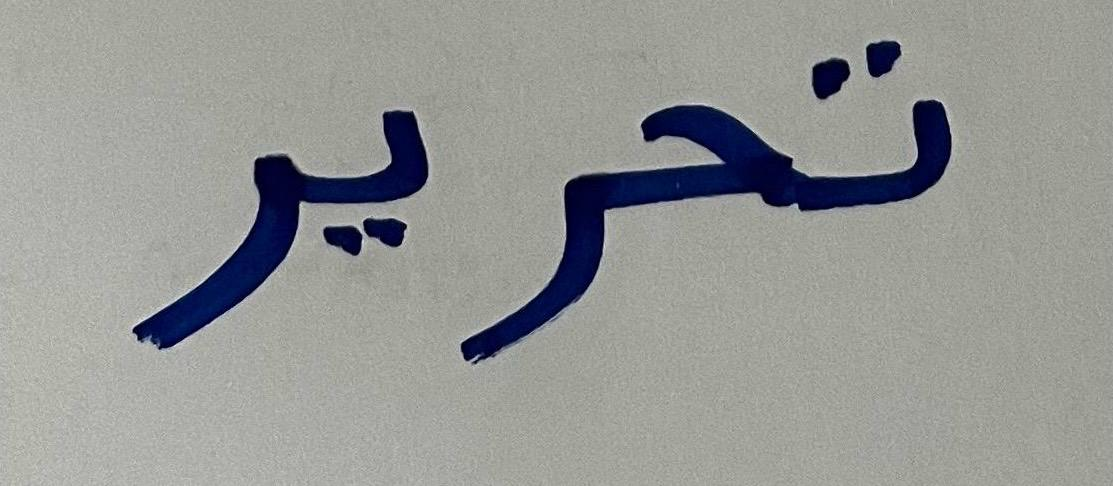hah: (616, 21, 775, 276)
reh: (96, 72, 305, 375), (446, 87, 614, 377)
teh: (784, 4, 979, 264)
yeh: (307, 42, 436, 326)
